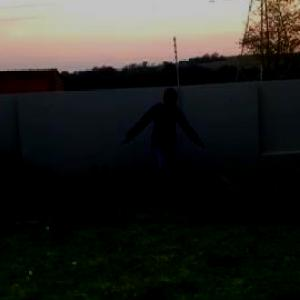land: (111, 80, 212, 220)
